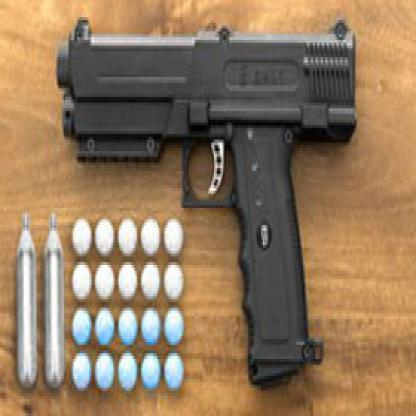gun: (48, 9, 364, 402)
